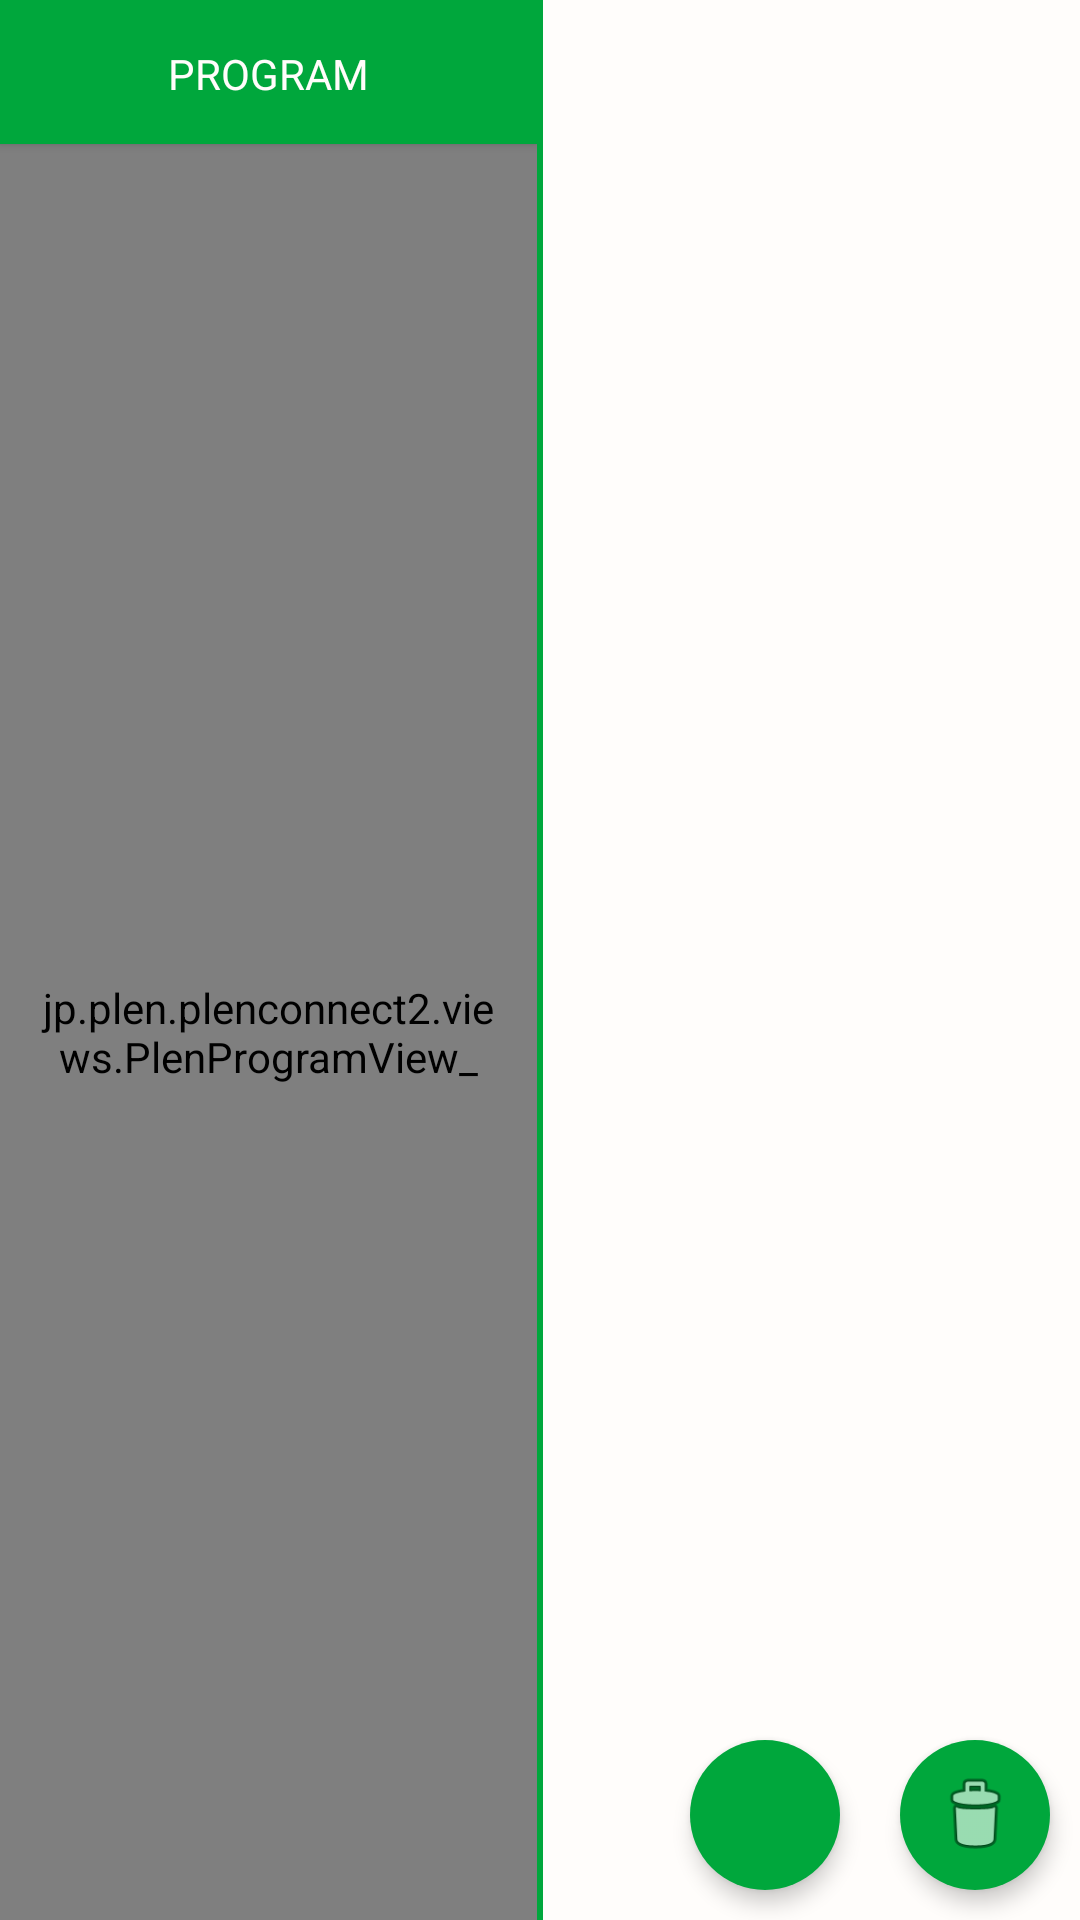

Locate icon controls on the screen. Image size 1080x1920, boxes as (x1,y1,x2,y2).
Delete: (900,1740,1050,1890)
